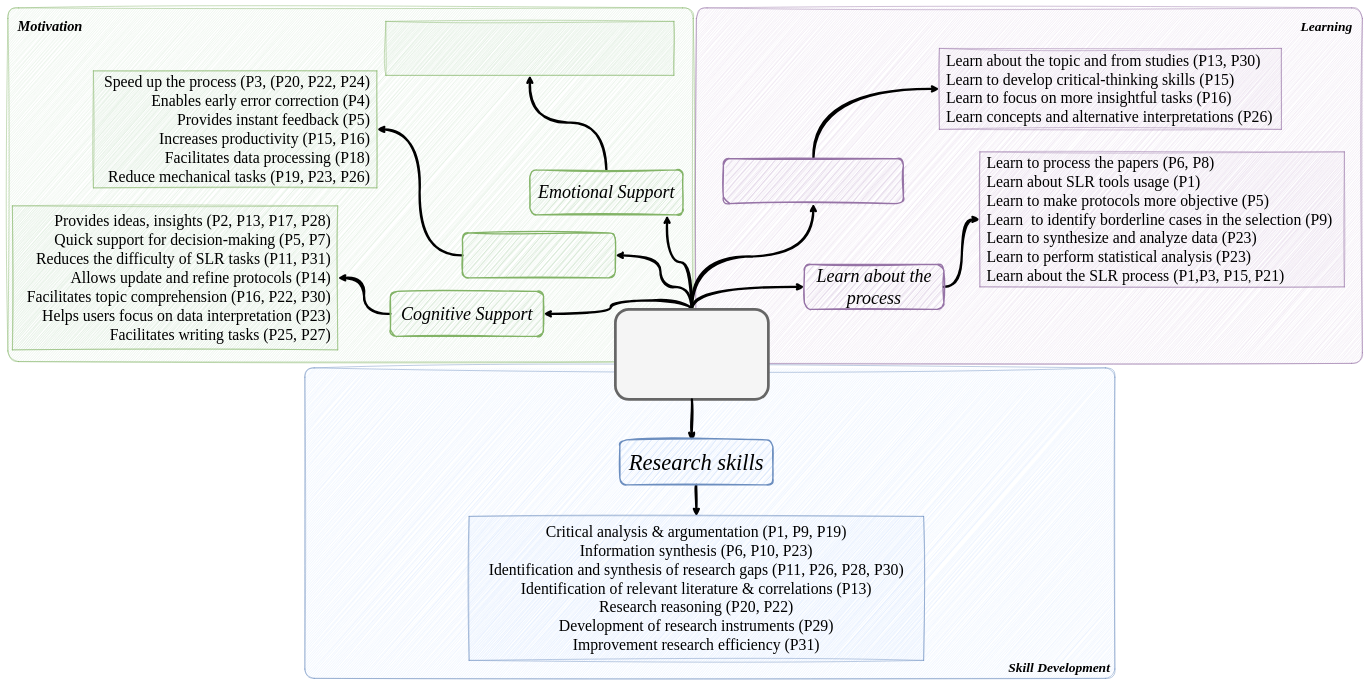
The diagram is 1370 pixels wide and 686 high, and some of its shapes have lost their labels. Here are the shapes that lost their labels. From the top down, the centre of each, then its label:
At point 529,48: "Reduce frustration of iterative process (P7) Increase confidence (P9)".
At point 813,181: "Learn from exploring research topic".
At point 538,255: "Efficiency and Time Savings".
At point 692,354: "Researcher".
